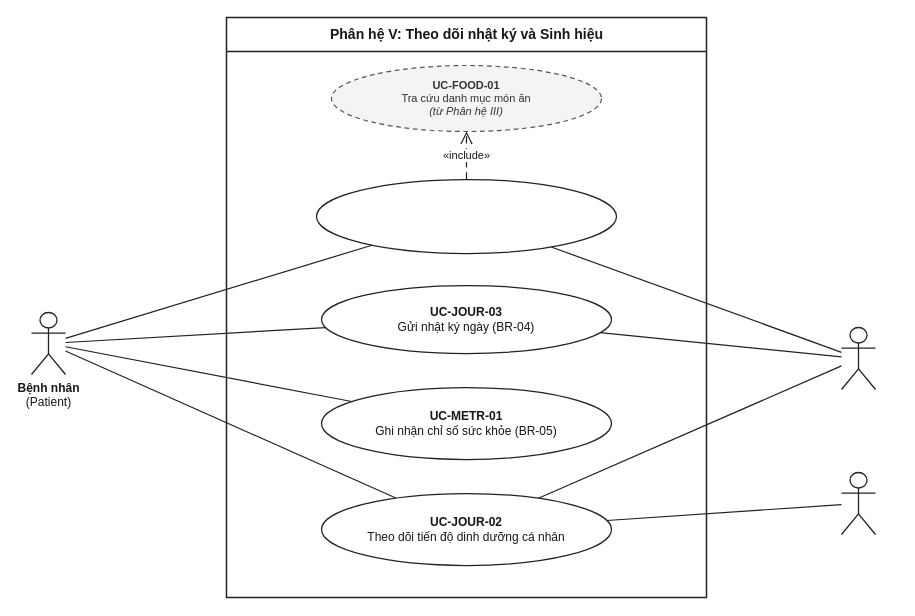
Some shapes in this 915 by 616 pixel diagram are drawn without their labels. Each missing label, with the centre of its shape:
Bác sĩ điều trị (Doctor): the point at 858,358
Trưởng khoa (Head of Dept): the point at 858,503
UC-JOUR-01 Ghi nhật ký ăn uống và lượng nước uống (BR-03): the point at 466,216
